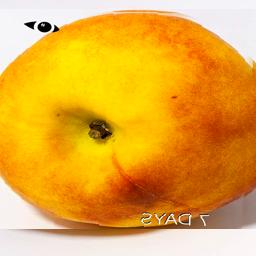Peach Fresh: (0, 9, 256, 229)
